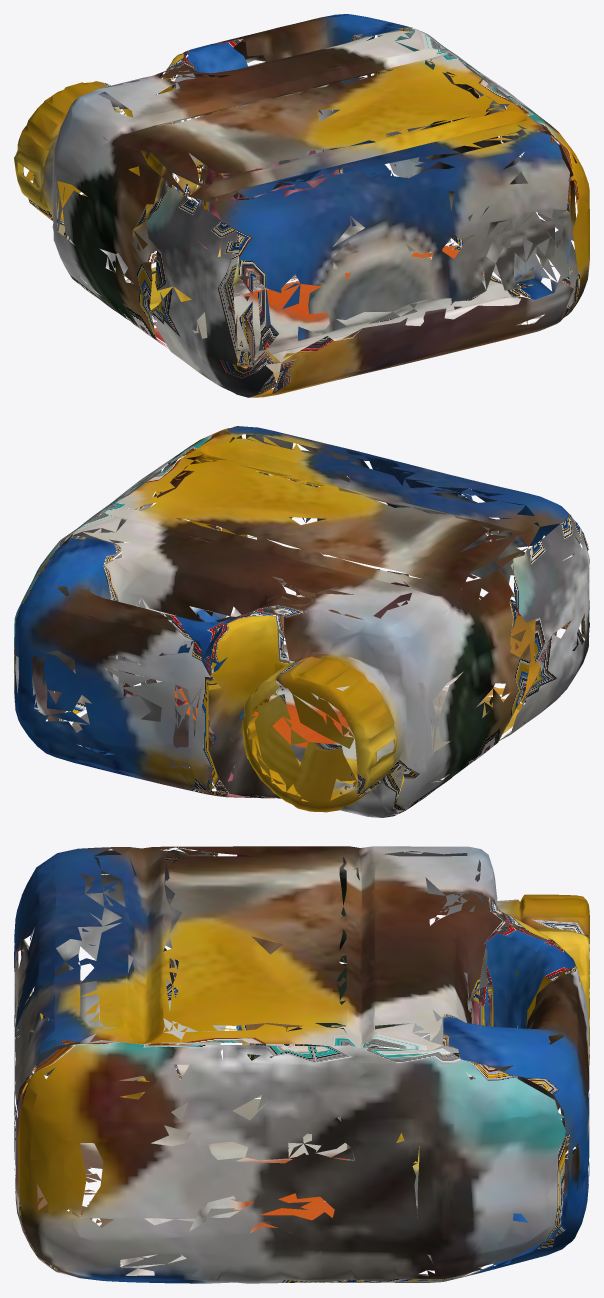
Rendered from plastik-kanister.glb.
The picture shows the model from 3 angles, top to bottom: view 1: azimuth 30°, elevation 25°; view 2: azimuth 150°, elevation 25°; view 3: azimuth 270°, elevation 25°; orthographic projection. The views are drawn at different scales.
Visible parts, largest first — view 1: plastik-kanister; view 2: plastik-kanister; view 3: plastik-kanister.
Boxes of the visible parts, x1,y1,x2,y2 form: plastik-kanister: (14,14,589,397); plastik-kanister: (14,426,589,817); plastik-kanister: (14,846,589,1283).
Size of the model in its own units: 0.125 by 0.0593 by 0.1273.
Materials: 1 (1 with a texture image).
